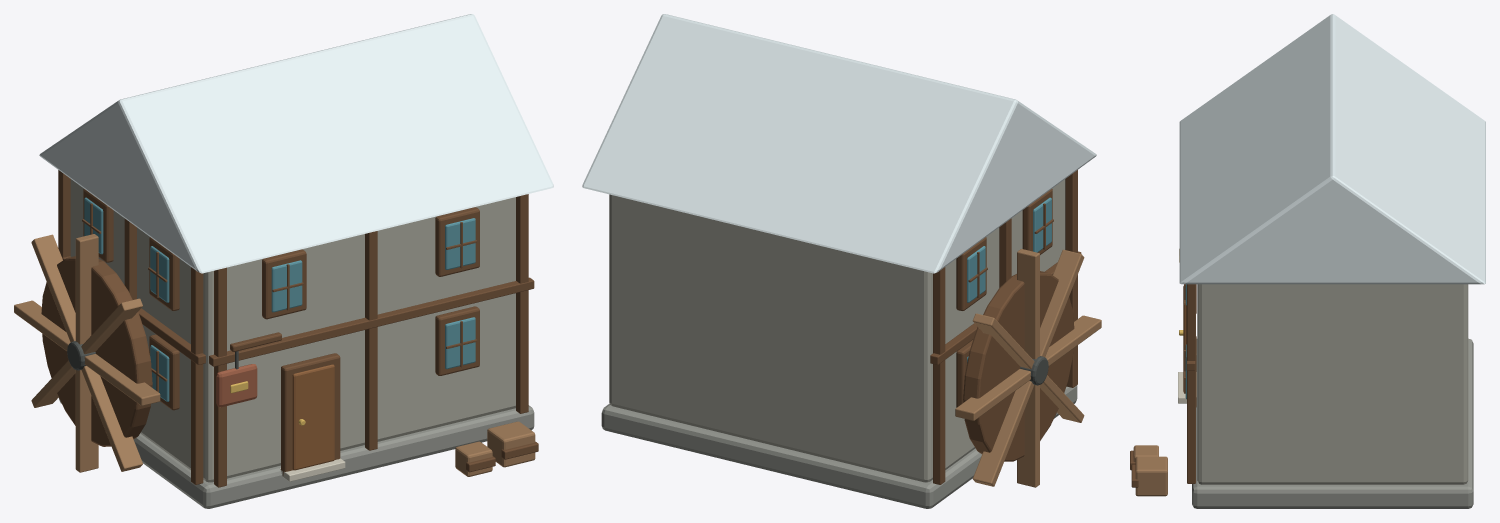
File: snowy-mill-0.glb
The picture shows the model from 3 angles, left to right: view 1: azimuth 30°, elevation 25°; view 2: azimuth 150°, elevation 25°; view 3: azimuth 270°, elevation 25°; orthographic projection. The views are drawn at different scales.
Parts seen in each view (by area): view 1: Snow, Fieldstone, Dark beams, Aged oak, Foundation stone, Blue glass, Door oak, Painted sign, Cut limestone; view 2: Snow, Fieldstone, Dark beams, Aged oak, Foundation stone, Blue glass; view 3: Snow, Fieldstone, Foundation stone, Dark beams, Aged oak.
Part boxes in pixels (x1=…): Snow: x1=39, y1=14, x2=553, y2=273; Fieldstone: x1=70, y1=179, x2=515, y2=482; Dark beams: x1=41, y1=170, x2=538, y2=487; Aged oak: x1=14, y1=234, x2=535, y2=476; Foundation stone: x1=58, y1=397, x2=534, y2=508; Blue glass: x1=84, y1=197, x2=475, y2=401; Door oak: x1=292, y1=364, x2=334, y2=470; Painted sign: x1=216, y1=364, x2=257, y2=407; Cut limestone: x1=280, y1=458, x2=345, y2=481; Snow: x1=582, y1=14, x2=1096, y2=273; Fieldstone: x1=609, y1=179, x2=1065, y2=482; Dark beams: x1=930, y1=170, x2=1081, y2=484; Aged oak: x1=955, y1=249, x2=1101, y2=487; Foundation stone: x1=601, y1=385, x2=1077, y2=508; Blue glass: x1=967, y1=197, x2=1051, y2=362; Snow: x1=1179, y1=14, x2=1485, y2=284; Fieldstone: x1=1197, y1=284, x2=1468, y2=484; Foundation stone: x1=1192, y1=338, x2=1473, y2=508; Dark beams: x1=1130, y1=284, x2=1196, y2=487; Aged oak: x1=1133, y1=445, x2=1167, y2=496.
Size of the model in its own units: 4.87 by 4.42 by 4.07.
